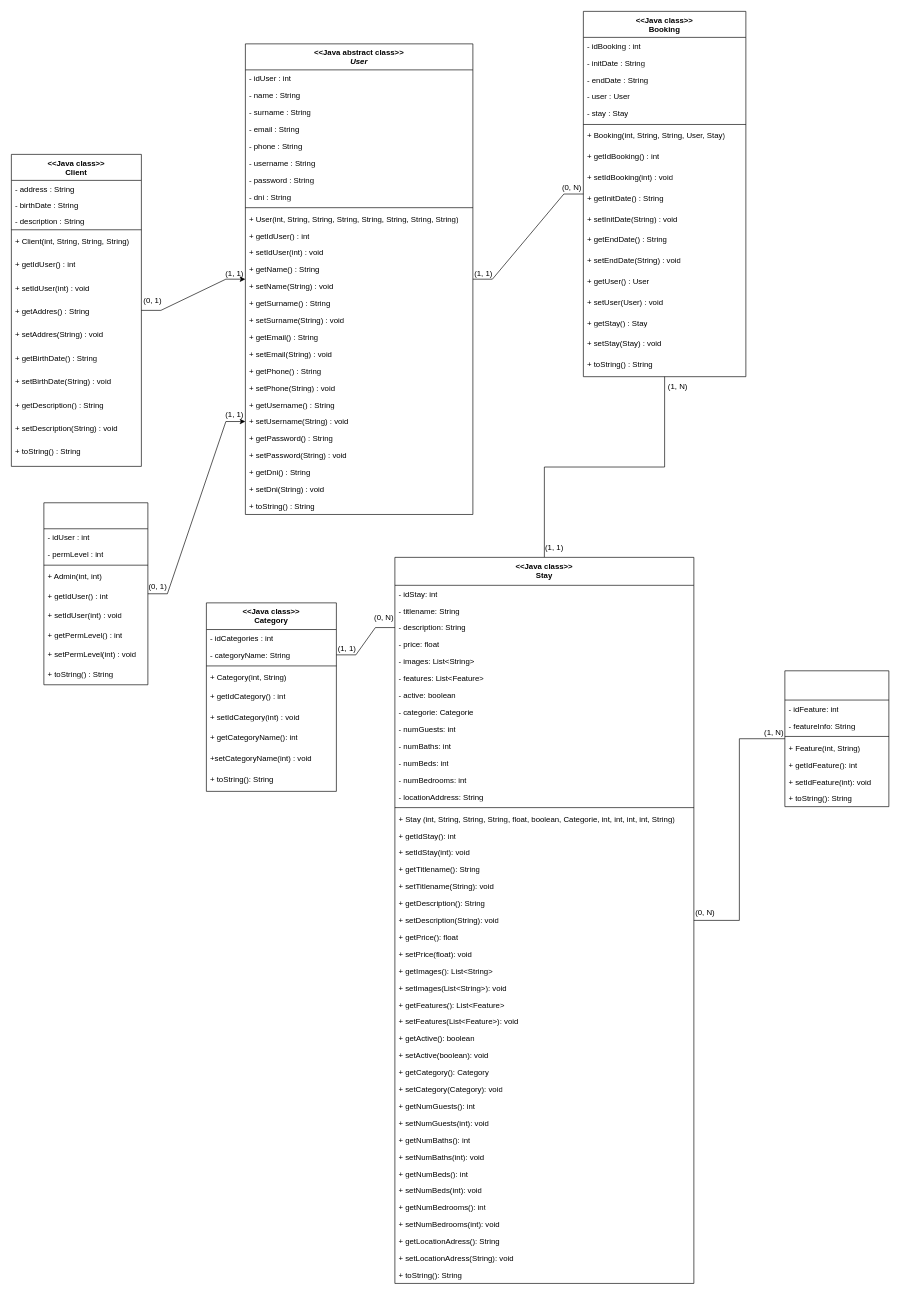
The diagram is 900 pixels wide and 1297 high, and some of its shapes have lost their labels. The box of each missing label's shape, as (x1, y1, x2, y2) in pixels:
<<Java class>> Admin: (43, 502, 148, 685)
<<Java class>> Feature: (784, 670, 889, 807)
